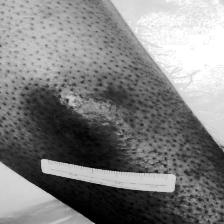Non-Cancerous Skin Condition: (0, 27, 187, 174)
